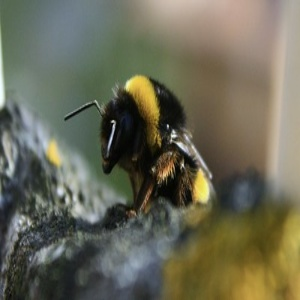bee: (64, 67, 221, 233)
